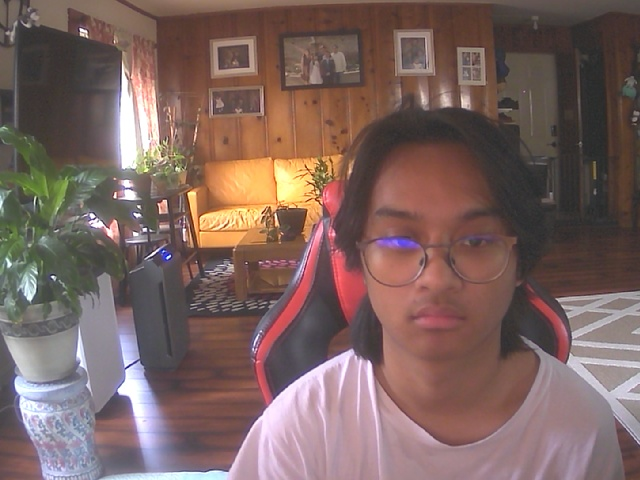neutral: (355, 124, 533, 365)
